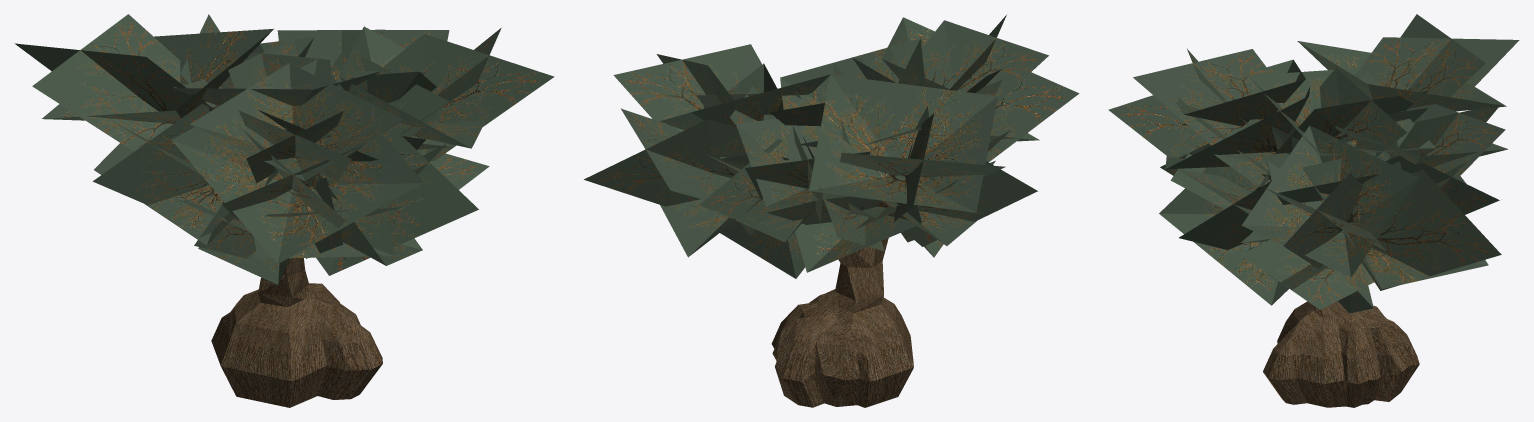
The model's file is decd_oaktreebranches_a2_l0.fbx.
The picture shows the model from 3 angles, left to right: view 1: azimuth 30°, elevation 25°; view 2: azimuth 150°, elevation 25°; view 3: azimuth 270°, elevation 25°; orthographic projection. The views are drawn at different scales.
Visible parts, largest first — view 1: mesh_node; view 2: mesh_node; view 3: mesh_node.
Boxes of the visible parts, x1,y1,x2,y2 form: mesh_node: (14,14,554,407); mesh_node: (584,15,1079,407); mesh_node: (1108,14,1519,407).
Size of the model in its own units: 23.41 by 17.1 by 21.09.
